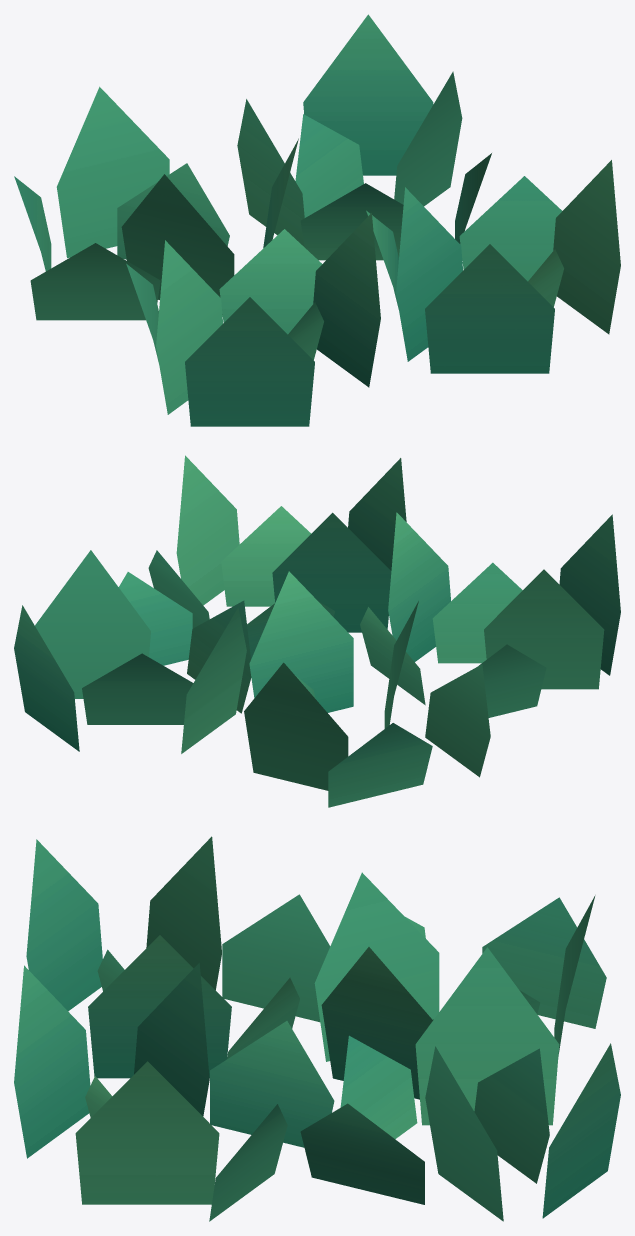
Rendered from grass-large.glb.
The picture shows the model from 3 angles, top to bottom: view 1: azimuth 30°, elevation 25°; view 2: azimuth 150°, elevation 25°; view 3: azimuth 270°, elevation 25°; orthographic projection. The views are drawn at different scales.
Parts seen in each view (by area): view 1: grass-large; view 2: grass-large; view 3: grass-large.
Boxes of the visible parts, left/top/right/bottom form: grass-large: left=14, top=14, right=620, bottom=426; grass-large: left=14, top=455, right=620, bottom=807; grass-large: left=14, top=836, right=620, bottom=1221.
Size of the model in its own units: 0.4759 by 0.1425 by 0.4873.
Materials: 1 (1 with a texture image).
